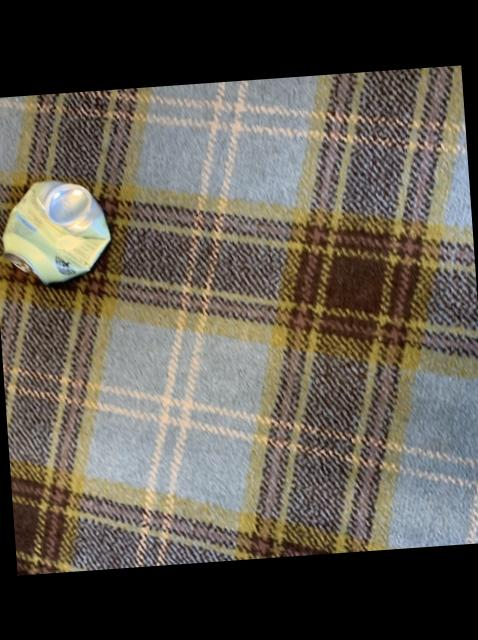metal: (2, 181, 109, 283)
